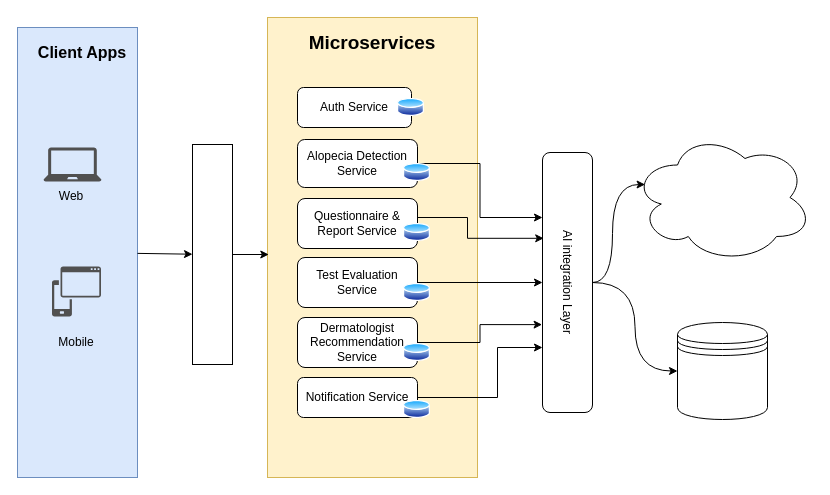
This 830x495 diagram has some shape labels left out. Each missing label, with the centre of its shape:
API Gateway: point 212,254
Database (MongoDB): point 722,371
Public cloud (Pre-Trained models): point 722,197
